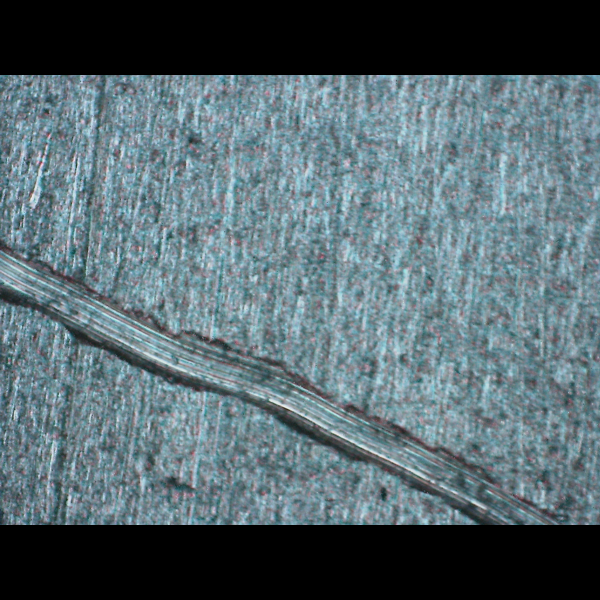d: (0, 230, 568, 524)
